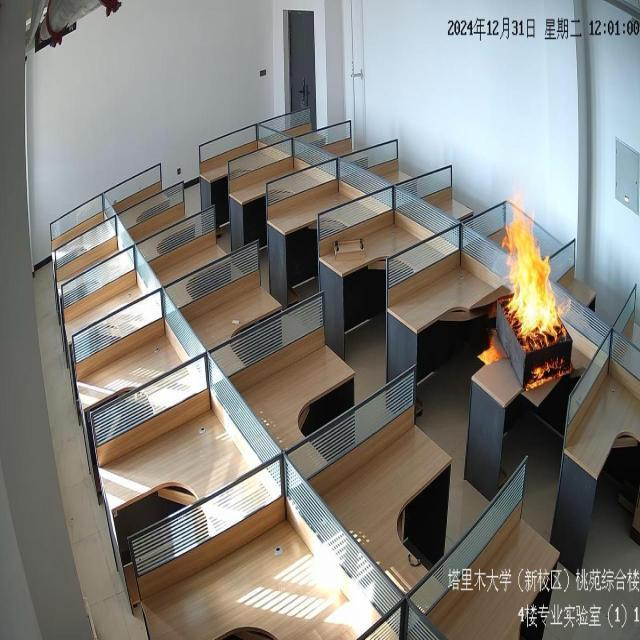smoke: (503, 190, 561, 348)
